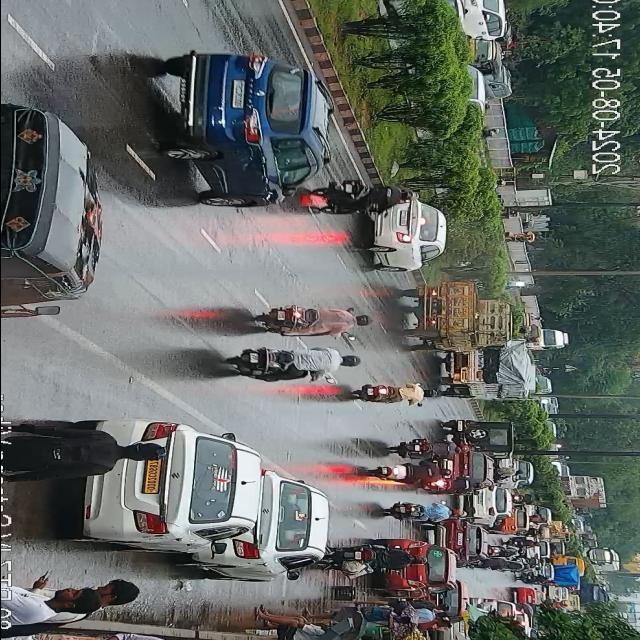2-wheelers: (228, 344, 358, 382), (254, 306, 374, 338), (331, 175, 405, 219), (346, 537, 428, 571), (392, 429, 458, 464), (382, 496, 456, 526), (356, 378, 428, 406), (371, 465, 449, 486), (480, 546, 531, 572), (502, 536, 542, 548), (512, 493, 540, 507), (511, 574, 555, 582), (496, 466, 525, 478), (508, 494, 542, 504), (526, 530, 541, 534)
auto: (1, 85, 92, 315), (452, 33, 504, 75)
car: (76, 414, 260, 572), (159, 48, 313, 208), (218, 476, 326, 574), (374, 188, 446, 274), (390, 540, 450, 590), (436, 518, 482, 564), (444, 419, 516, 448), (460, 0, 512, 37), (468, 482, 509, 522), (455, 446, 490, 482), (462, 594, 514, 617), (441, 578, 468, 620), (500, 458, 534, 484), (489, 516, 532, 534), (516, 586, 546, 610)
pedestrian: (0, 421, 148, 484), (0, 570, 89, 620), (258, 610, 354, 640), (385, 598, 449, 624), (88, 580, 140, 610)
truck: (393, 274, 515, 354), (436, 350, 532, 401), (556, 473, 610, 508)
